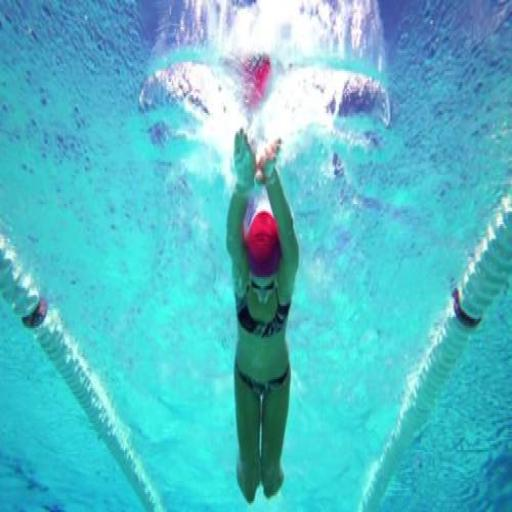swimming: (223, 126, 302, 506)
